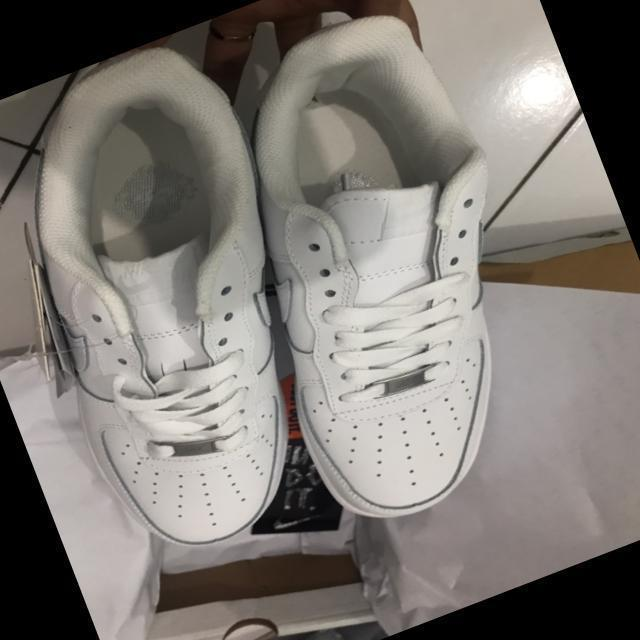nike fake air force: (156, 0, 596, 548), (0, 22, 384, 575)
